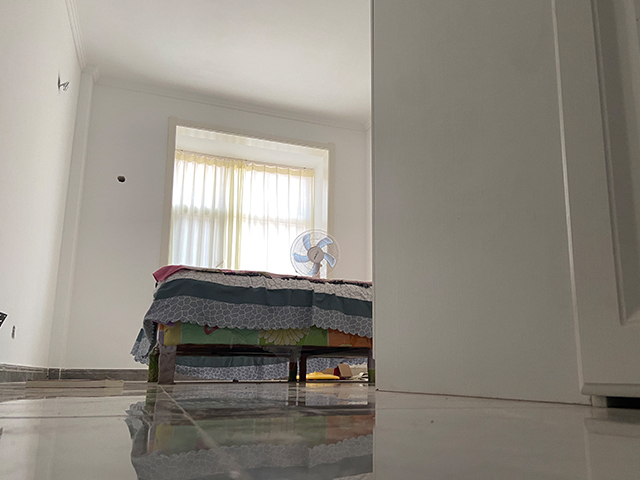bed: (130, 264, 375, 386)
cabinet: (370, 1, 590, 406)
